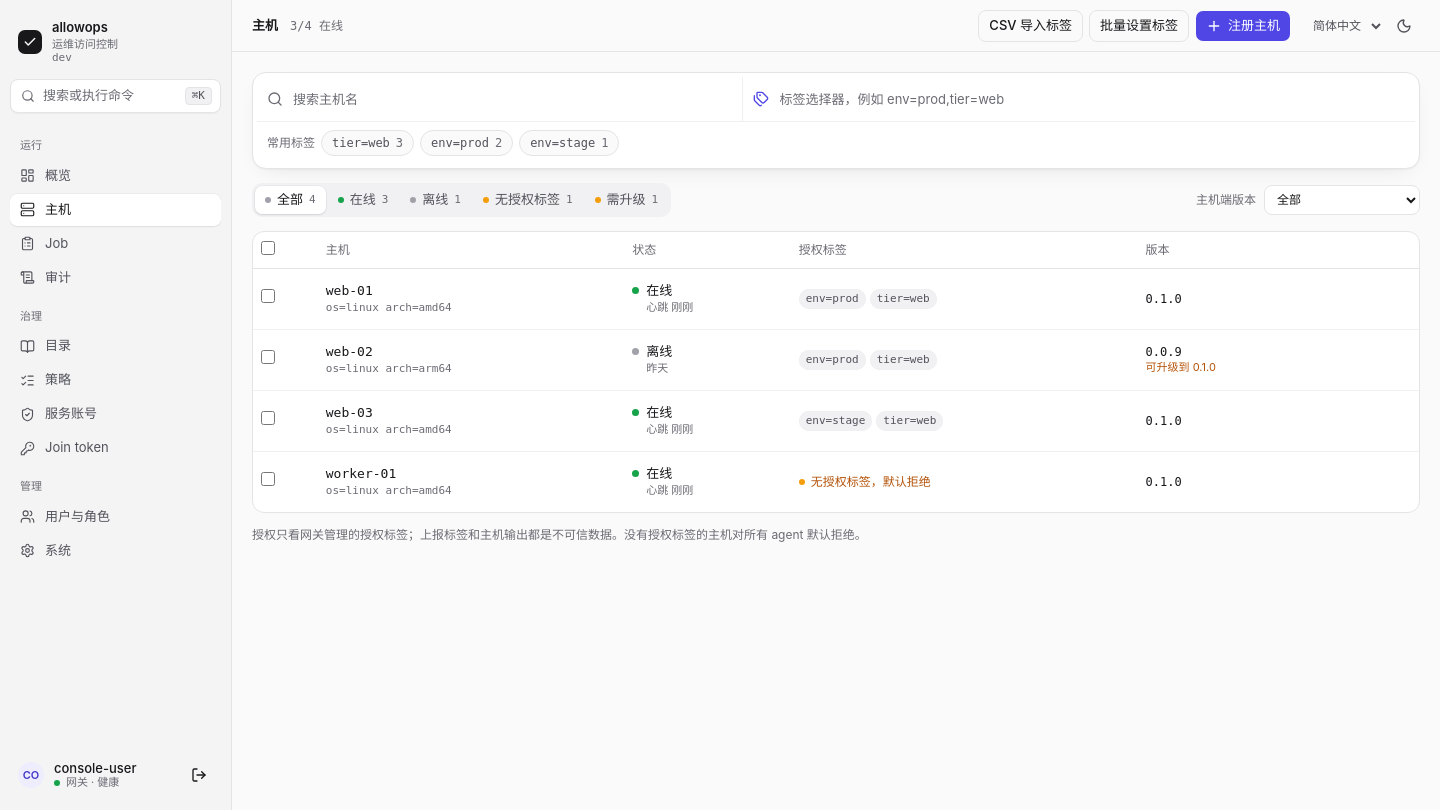
Test: hosts selection bar › previews a label diff for the selection and applies it with revisions
Expected: the heading "主机" is shown, [252,16,278,35]
Expected: the link "web-01" is shown, [326,280,373,300]
Click the checkbox named "选择 web-01": point(268, 296) [261,289,275,303]
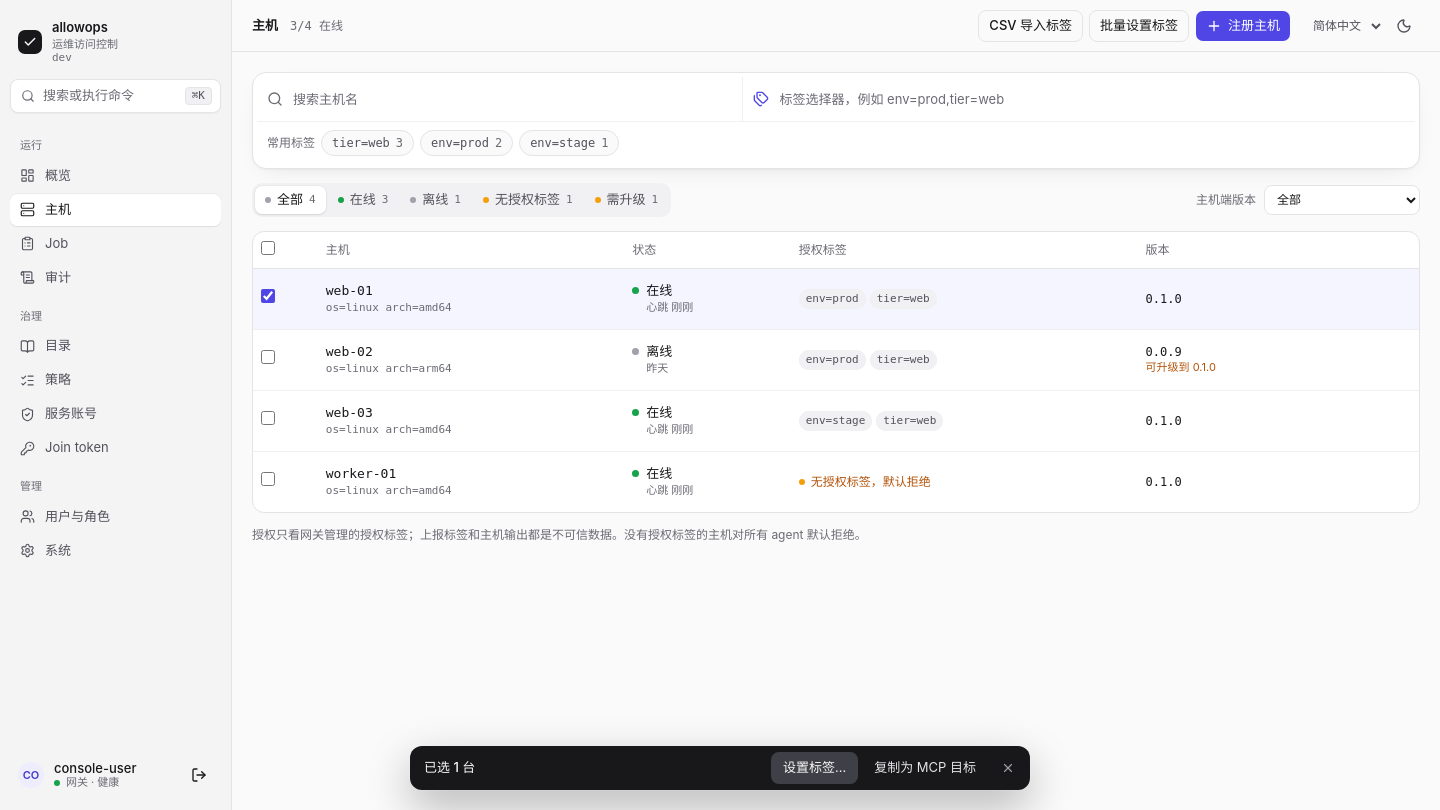
Click the checkbox named "选择 web-02": point(268, 357) [261,350,275,364]
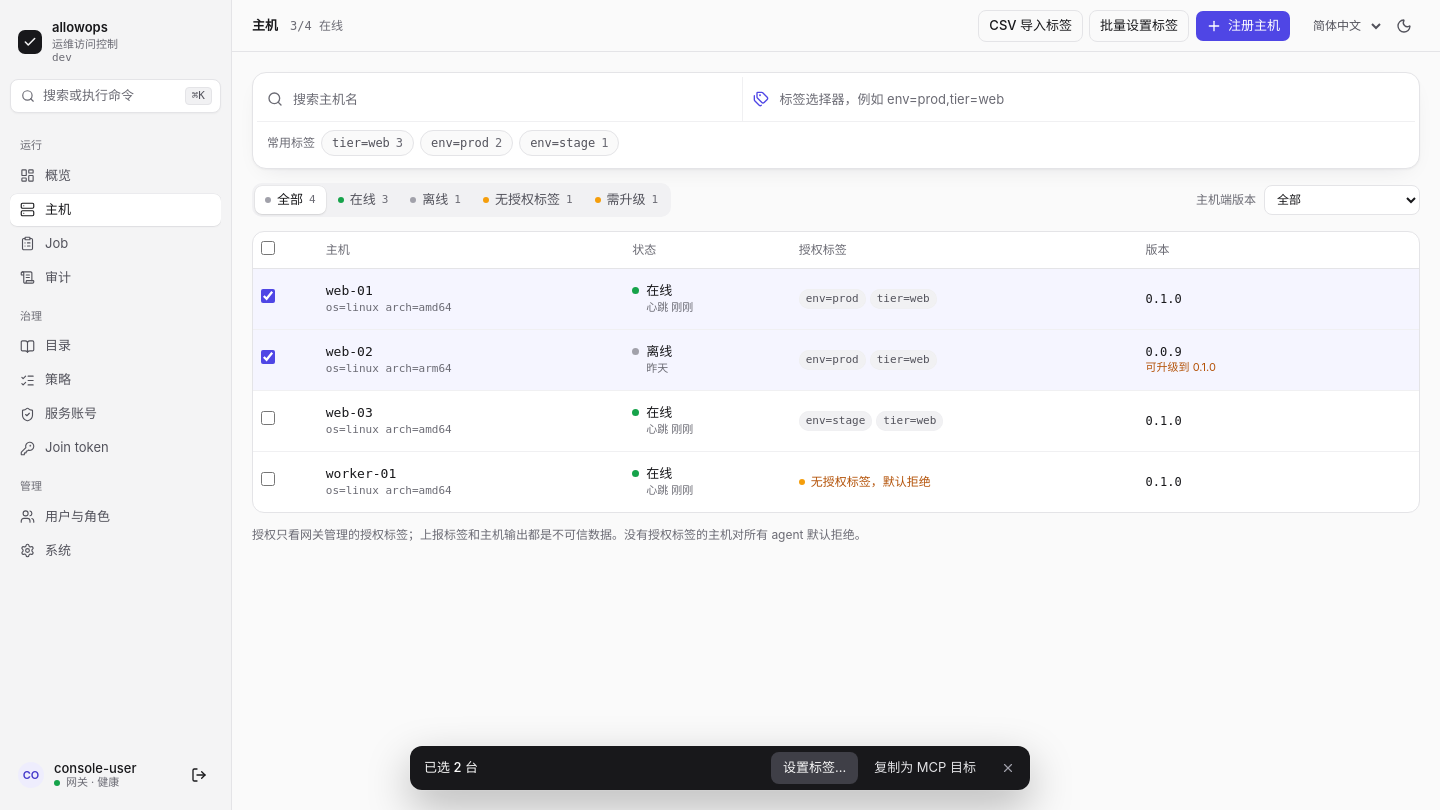
Now the element named "批量操作" shows "已选 2 台", box [424,759,478,775]
Click the button "设置标签…": point(815, 768) [771,752,858,784]
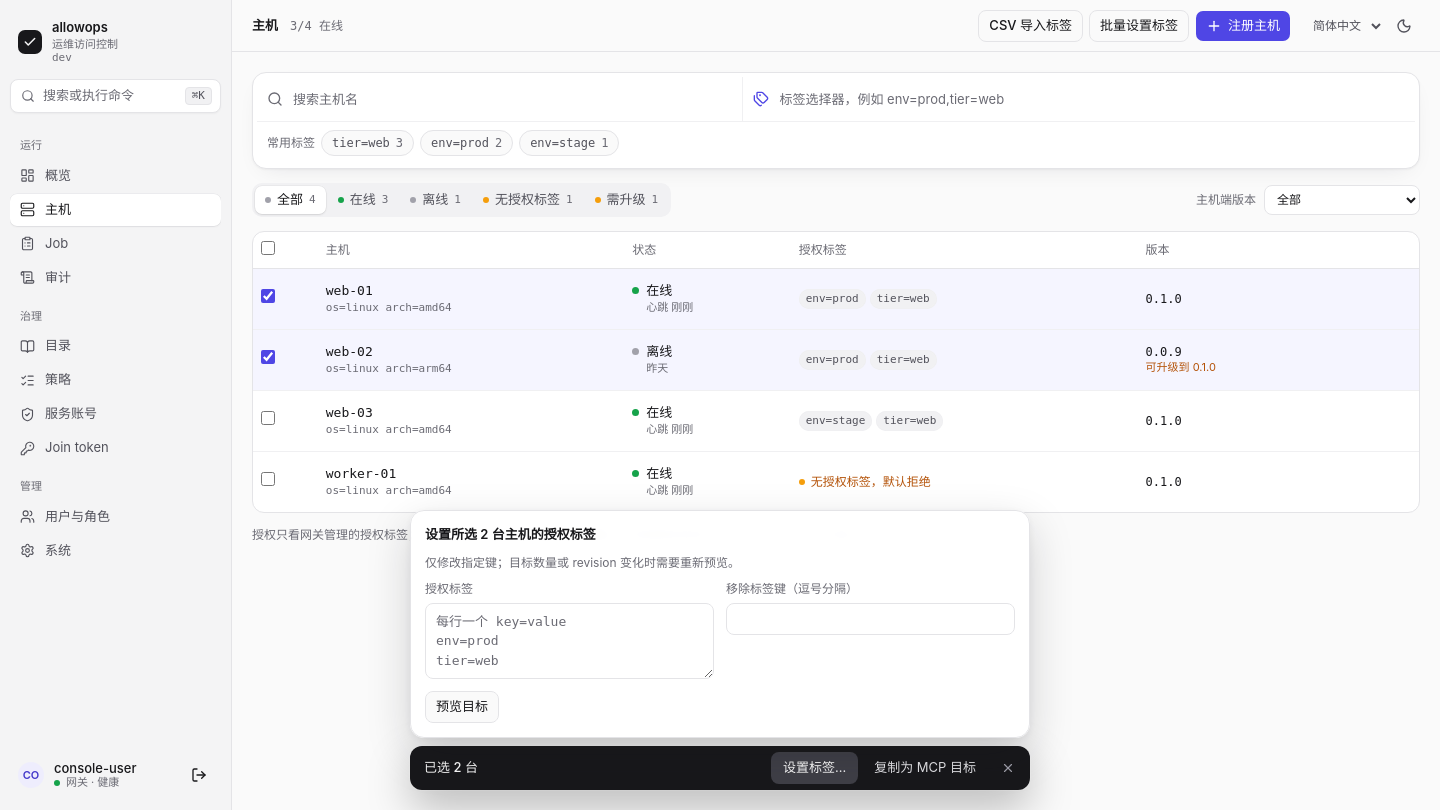
In the text box labelled "授权标签": point(570, 641) [425,602,714,679], type "team=ops"
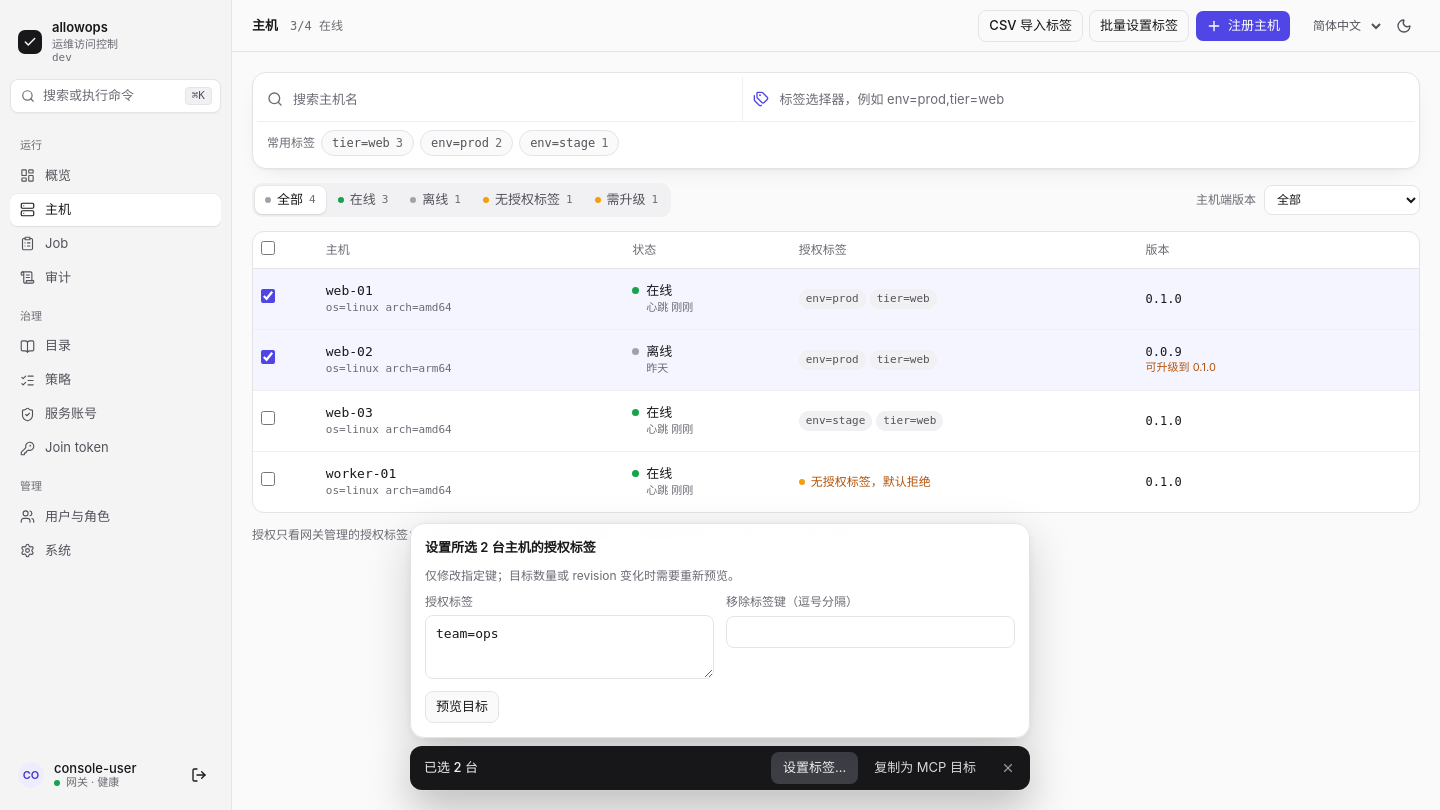
Click the button "预览目标": point(462, 707) [425,691,499,723]
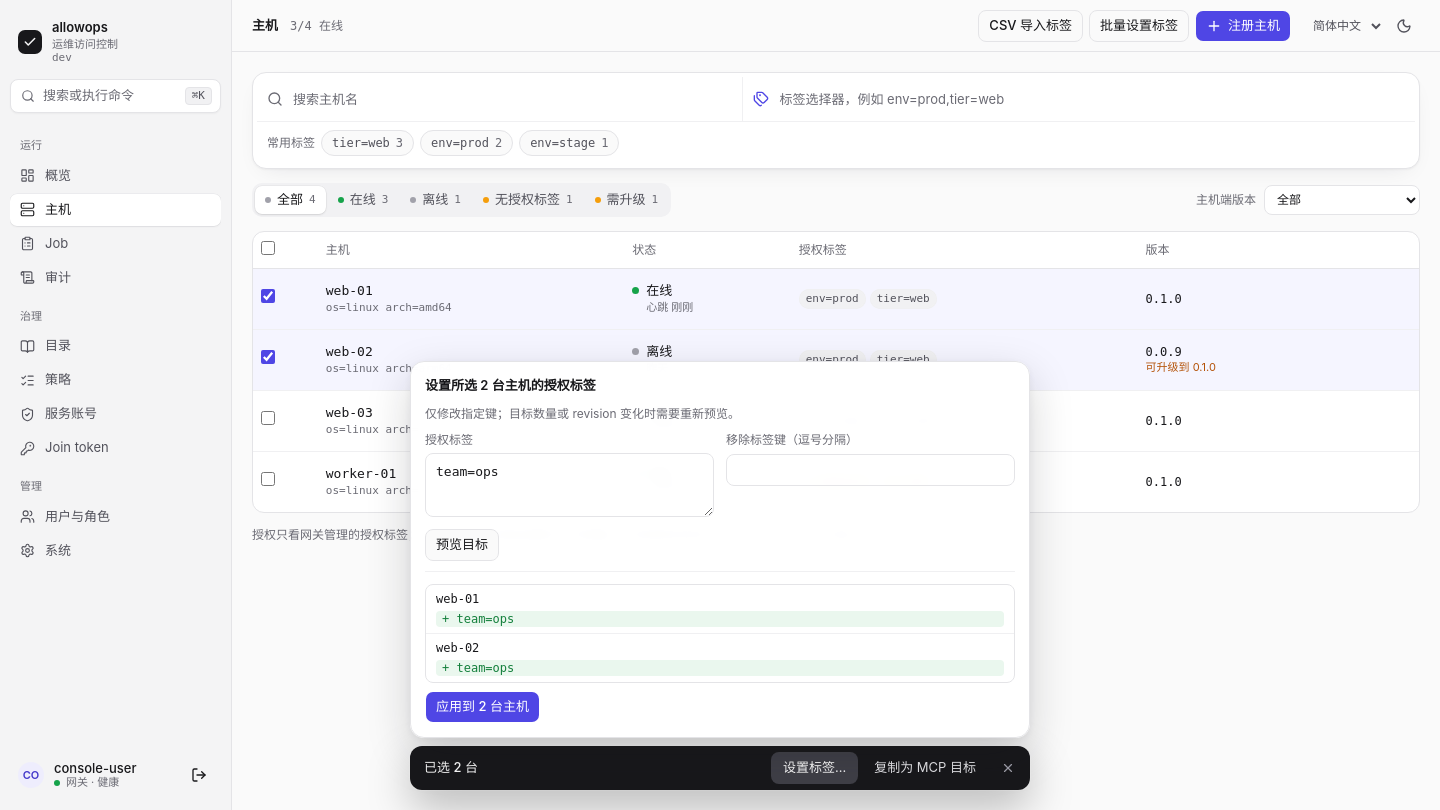
Now the number of list items "team=ops" is 2, box [436,611,1004,627]; [436,660,1004,676]
Click the button "应用到 2 台主机": point(482, 707) [425,691,540,723]
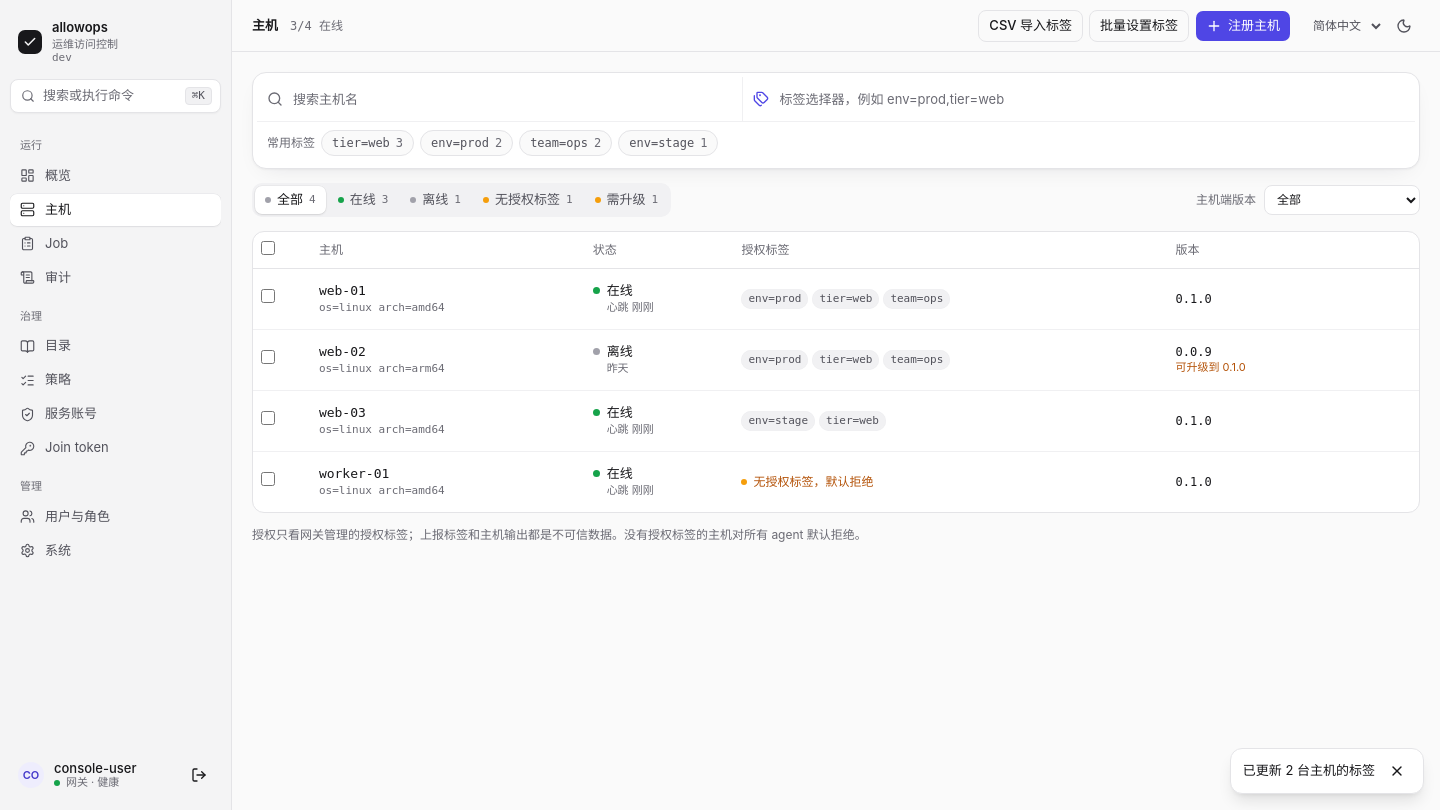
Now the message reads "已更新 2 台主机的标签", box [1243,762,1375,778]
Now the element "批量操作" is gone
